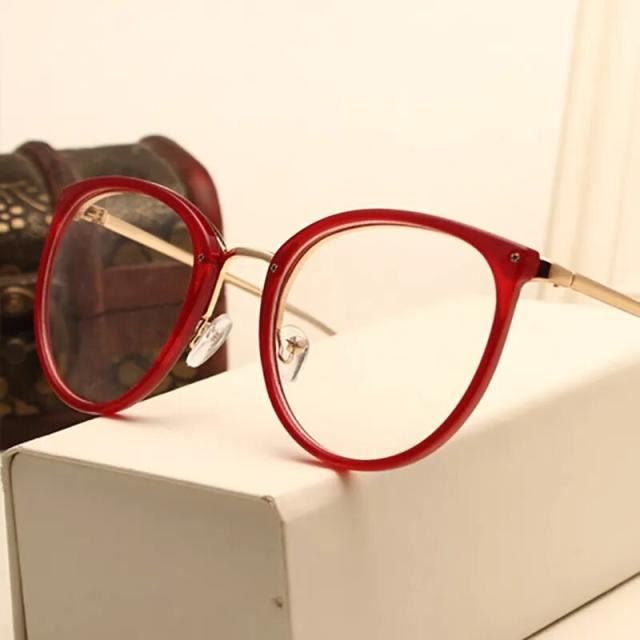glasses: (36, 175, 633, 474)
